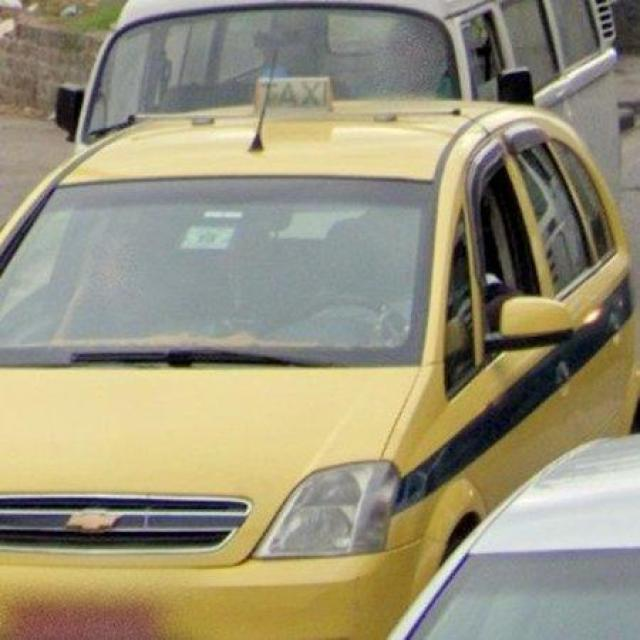Taxi: (0, 70, 640, 639)
